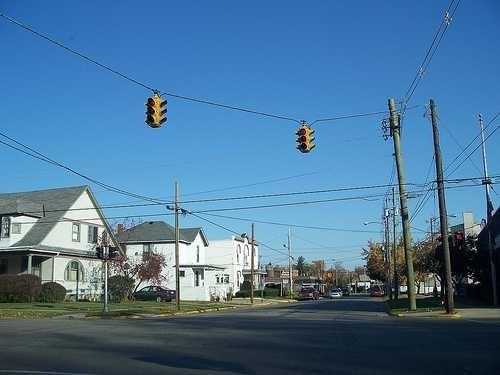red: (145, 95, 159, 127), (300, 126, 308, 153)
